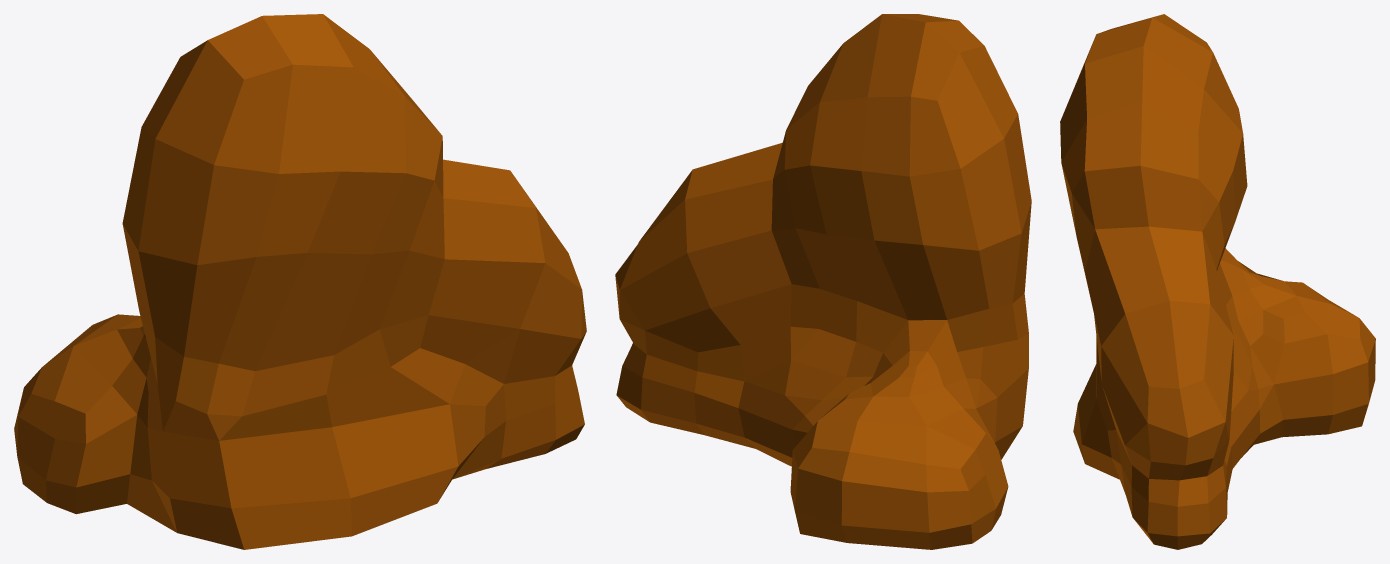
The model's file is M_Stone_02_Lod1.fbx.
3 renders of one model, left to right at view 1: azimuth 30°, elevation 25°; view 2: azimuth 150°, elevation 25°; view 3: azimuth 270°, elevation 25°, orthographic. The views are drawn at different scales.
Parts seen in each view (by area): view 1: M_Stone_02_Lod1; view 2: M_Stone_02_Lod1; view 3: M_Stone_02_Lod1.
Part boxes in pixels (box(x1,y1,x2,y2)): M_Stone_02_Lod1: box(14, 14, 586, 549); M_Stone_02_Lod1: box(615, 14, 1031, 549); M_Stone_02_Lod1: box(1060, 14, 1375, 549).
Bounding box in the file's own units: 268 × 269 × 187.
